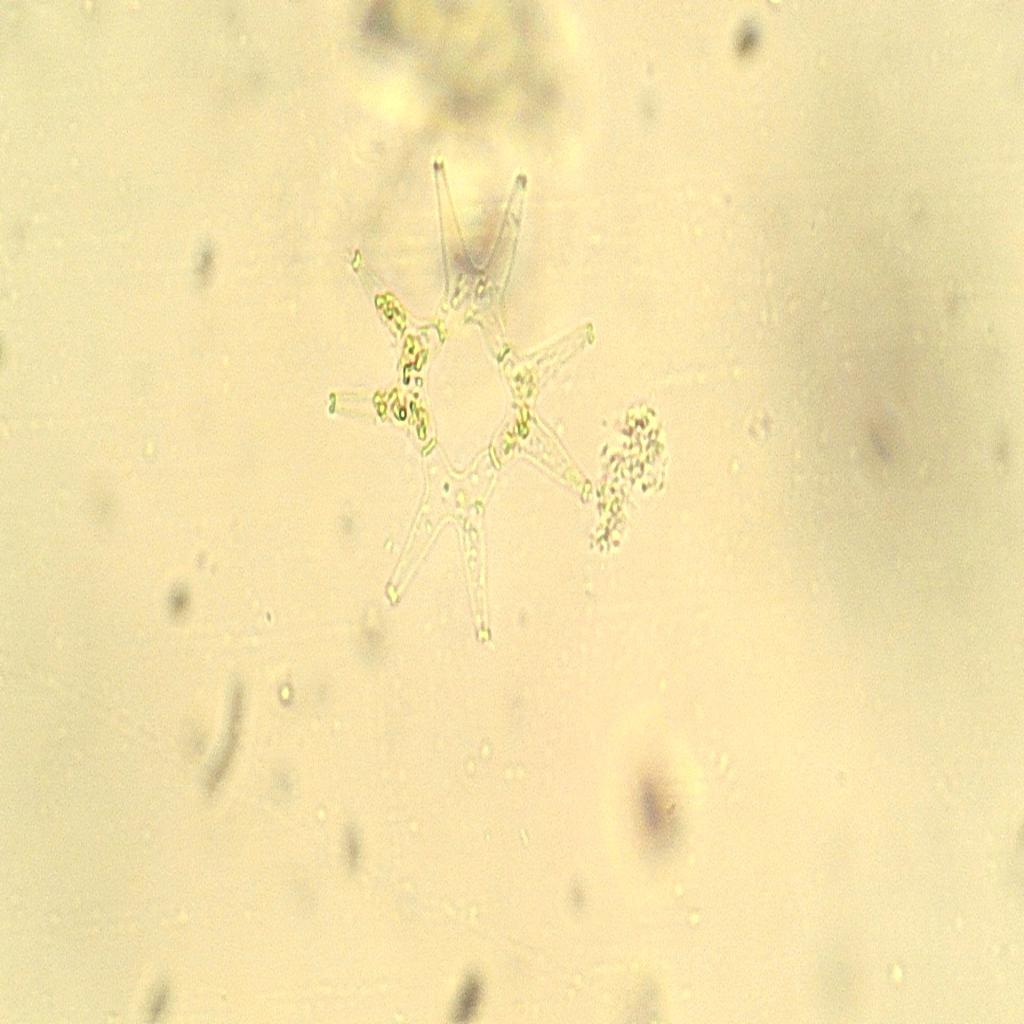Pediastrum_75TH: (314, 124, 616, 686)
